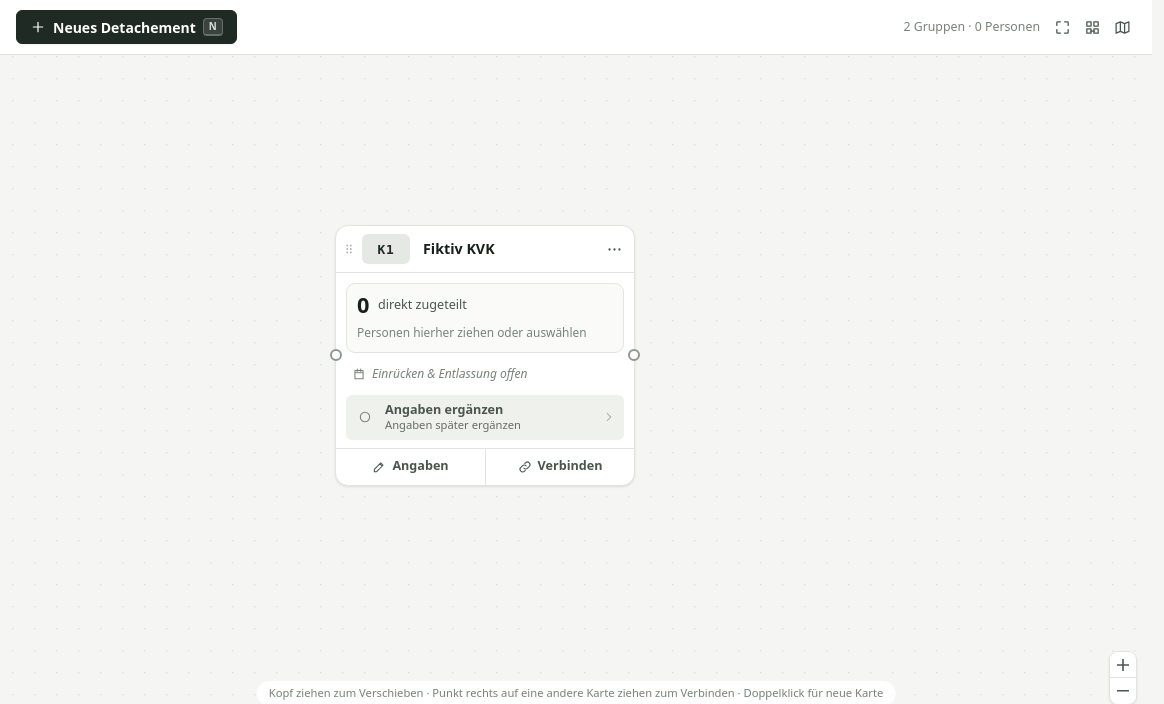
Test: interactive planning board with wholly fictional projects › keeps a blank inline name local and explains how to correct it
This screenshot has width=1164, height=704.
Clear the 2nd field named "Name" at (506, 249), box [416, 234, 596, 264]
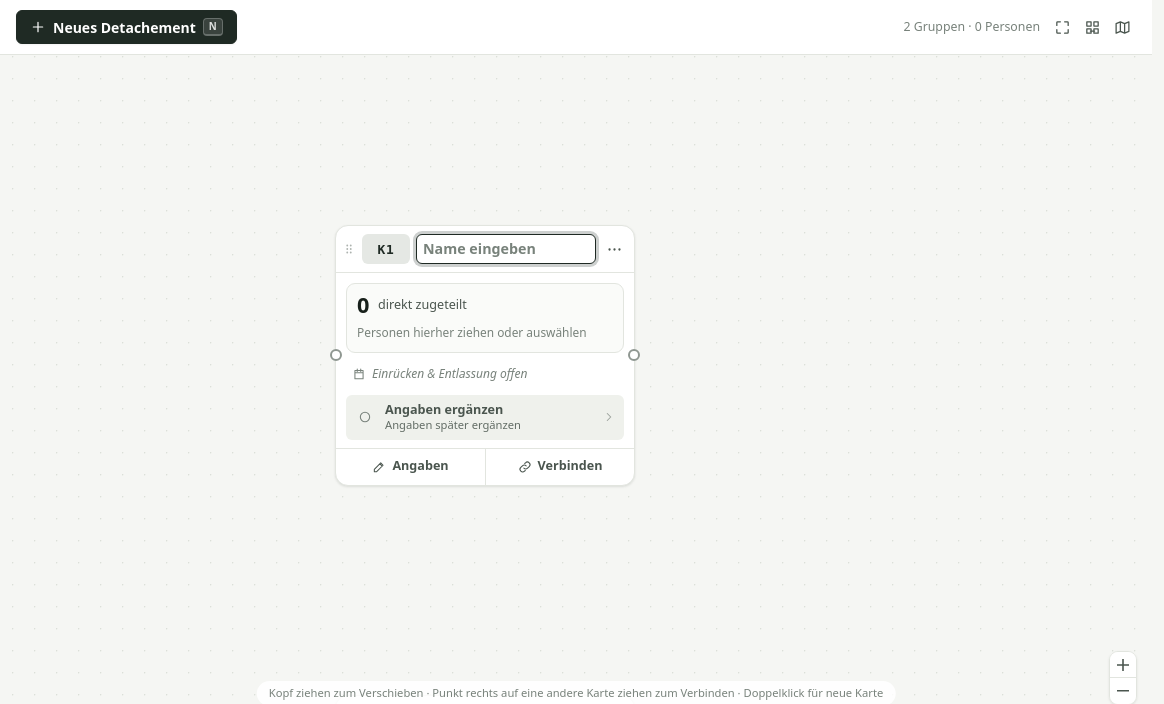
Press Enter
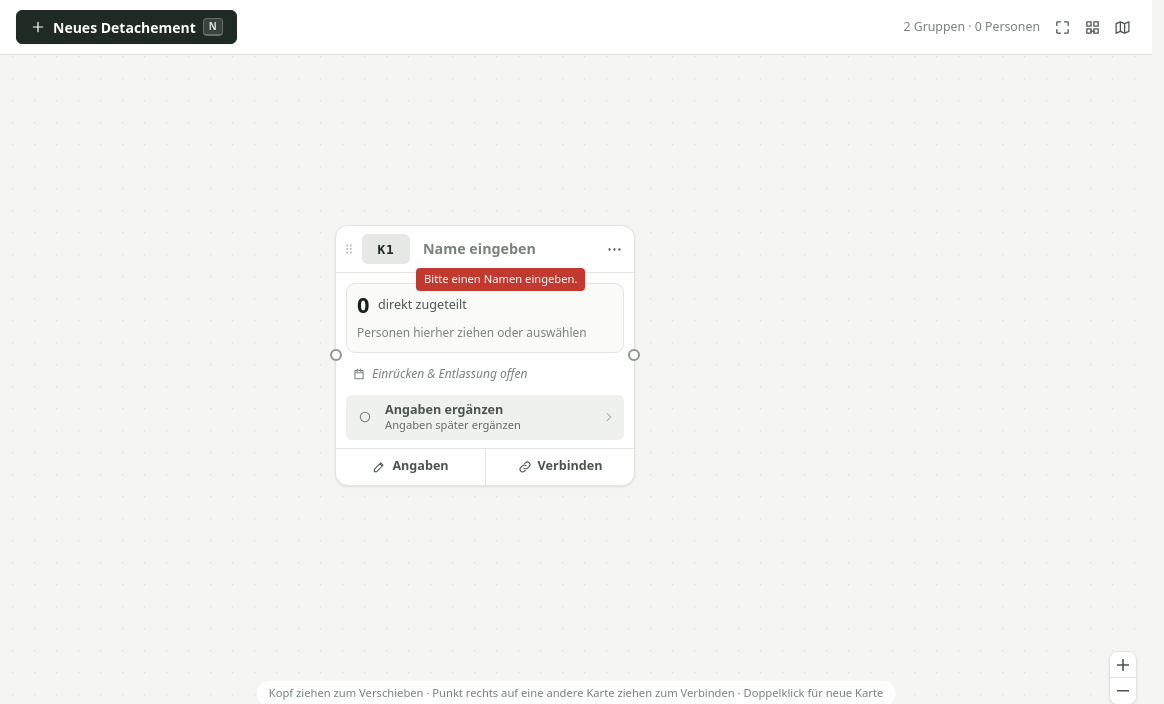
Result: the message reads "Bitte einen Namen eingeben." at [424, 271, 578, 286]
Type "Fiktiv korrigiert" into the field labelled "Name" at (506, 249), box [416, 234, 596, 264]
Then press Enter
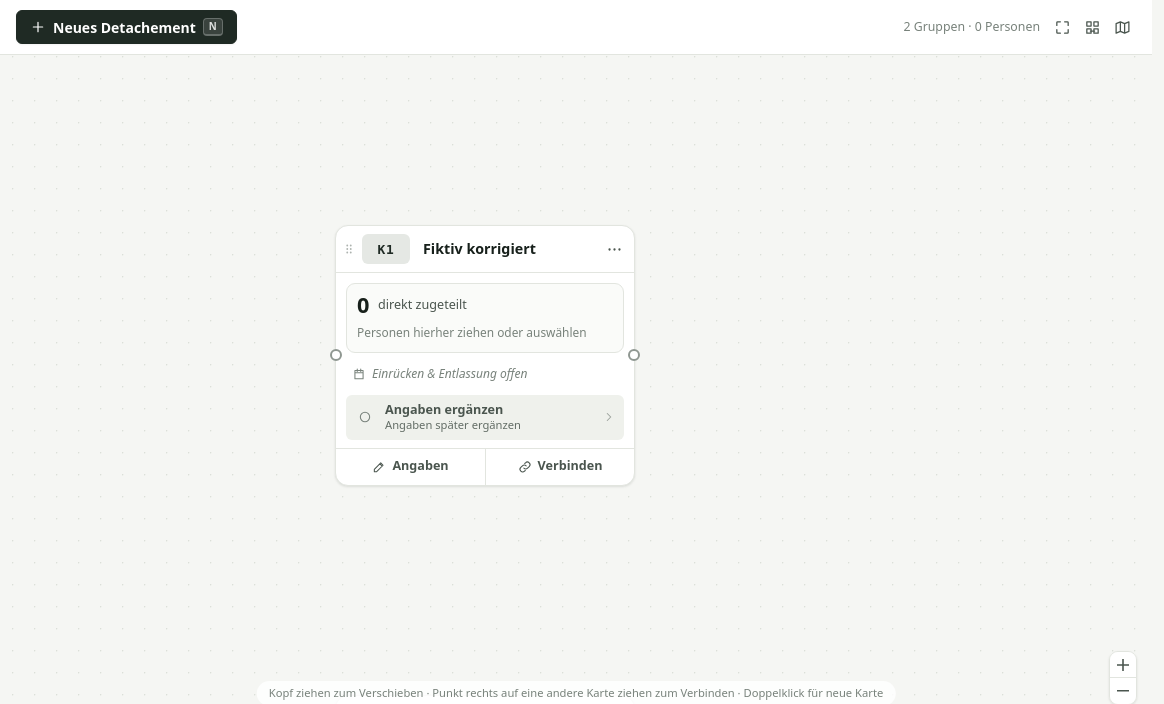
Result: the message "Bitte einen Namen eingeben." is gone
